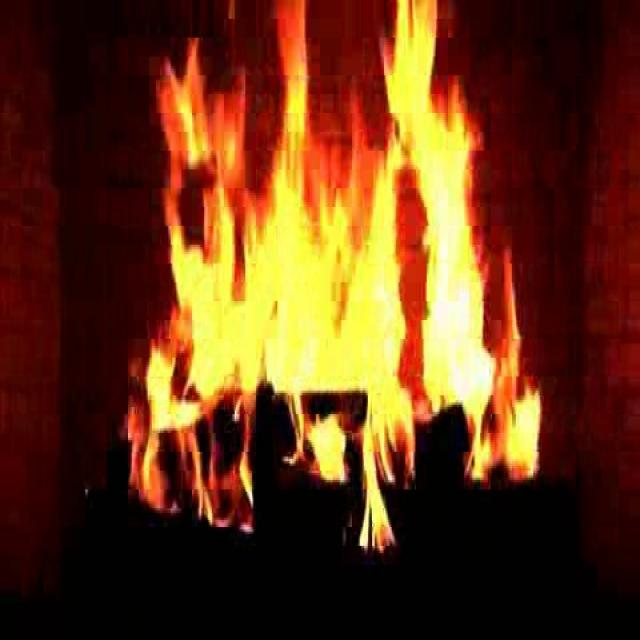fire: (146, 16, 526, 516)
